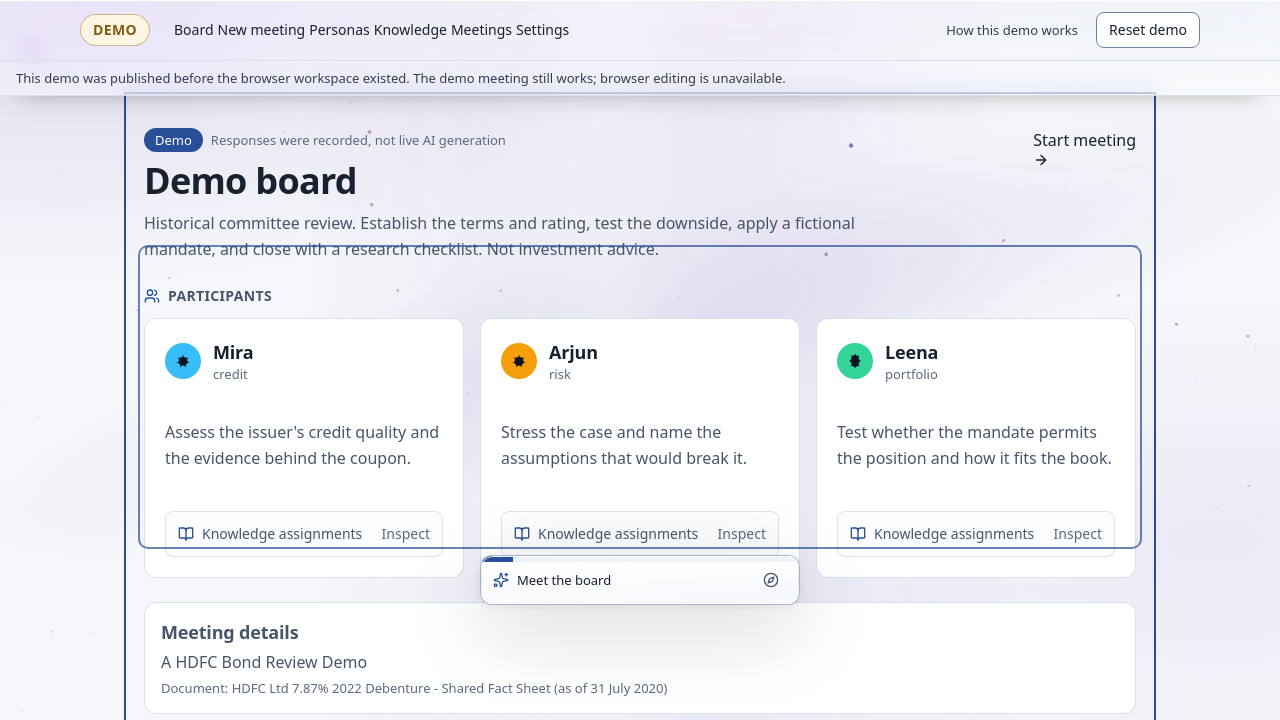
it: keeps the tutorial objective while the demo settings page is open
Check: the element with test id "tutorial-hud" is shown, box [480,555,800,605]
Click the link "Settings": (543, 30) [516,20,569,40]
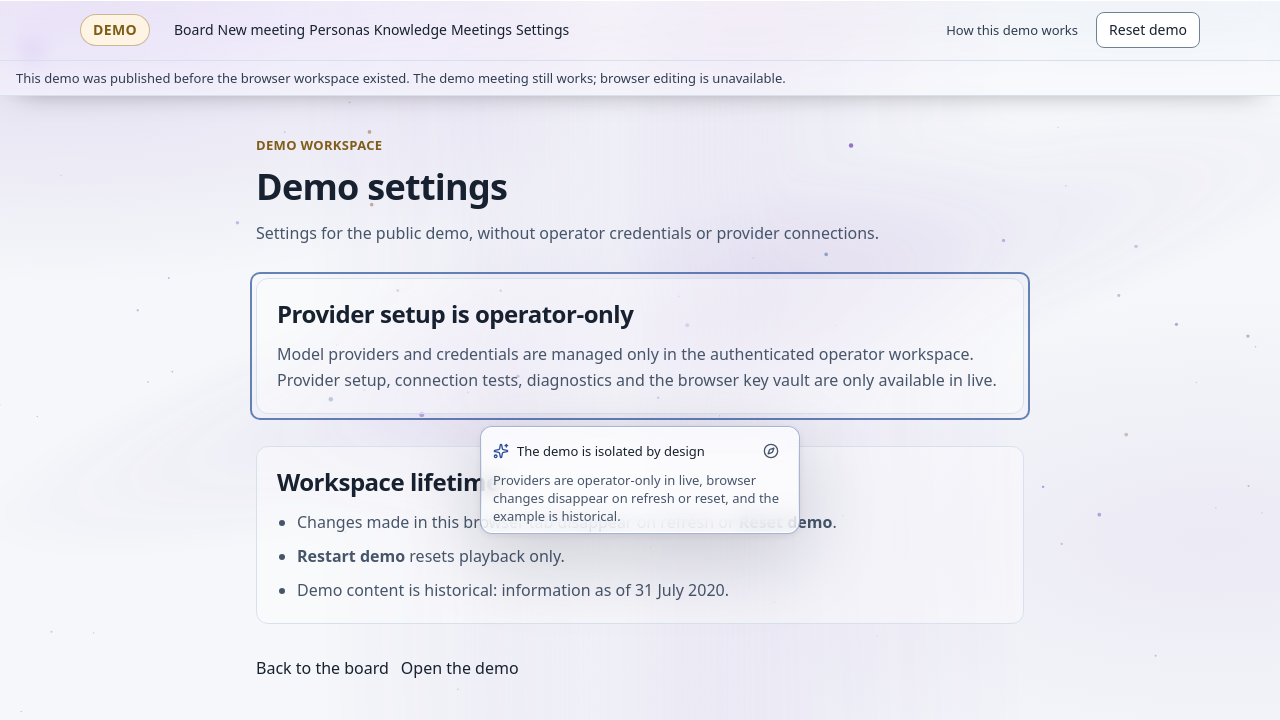
Check: the heading "Demo settings" is shown, box [256,162,507,211]
Check: the text "The demo is isolated by design" is shown, box [517,442,705,460]
Check: the text "Providers are operator-only in live" is shown, box [493,471,779,525]
